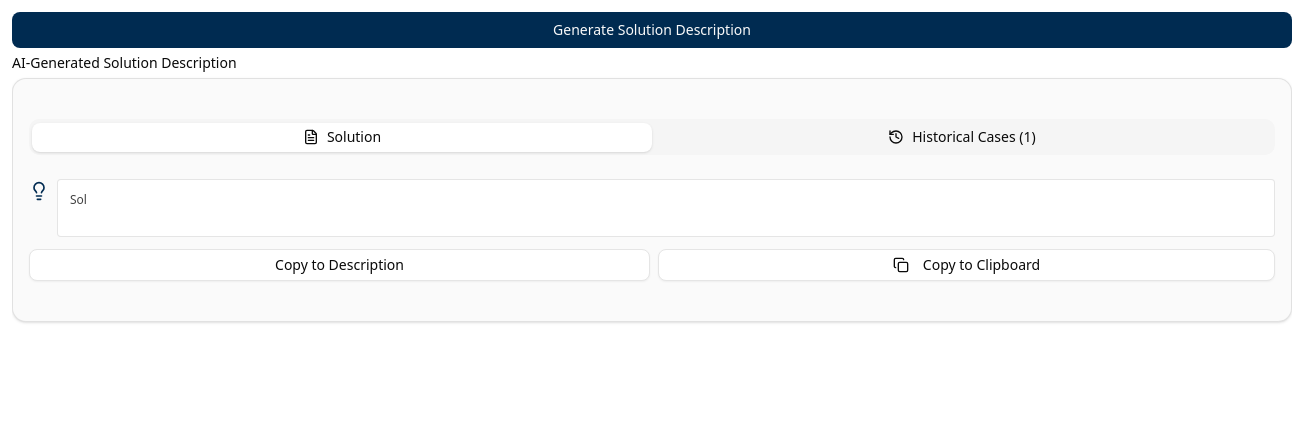
Test: AIGeneratorPanel › renders historical cases
// Switch to Historical tab
Click the tab "Historical Cases (1)".
click(962, 137)  # box [652,122,1272,152]
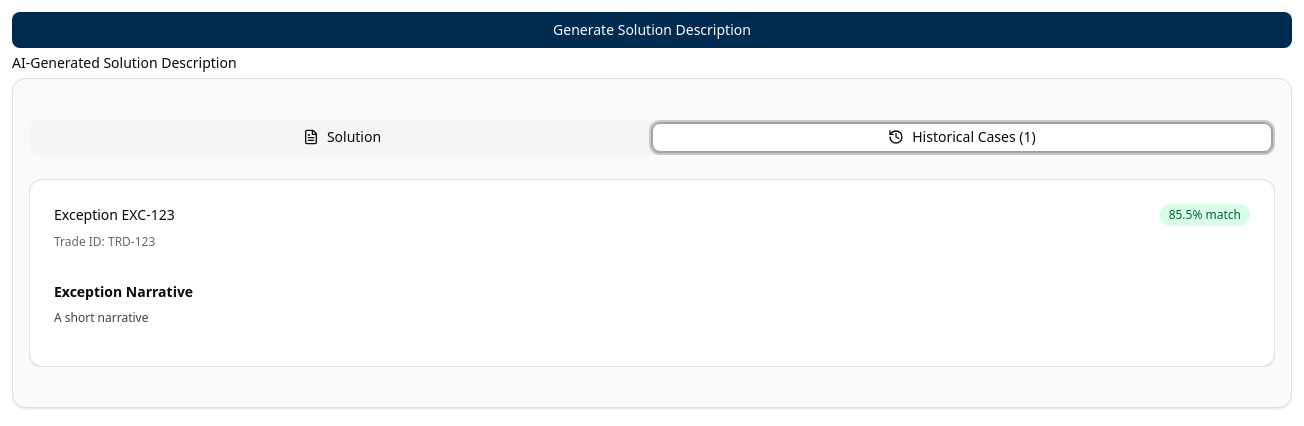
Result: the text "Exception EXC-123" is shown at [54,205,175,225]
Result: the text "Trade ID: TRD-123" is shown at [54,233,155,250]
Result: the text "85.5% match" is shown at [1160,204,1250,226]
